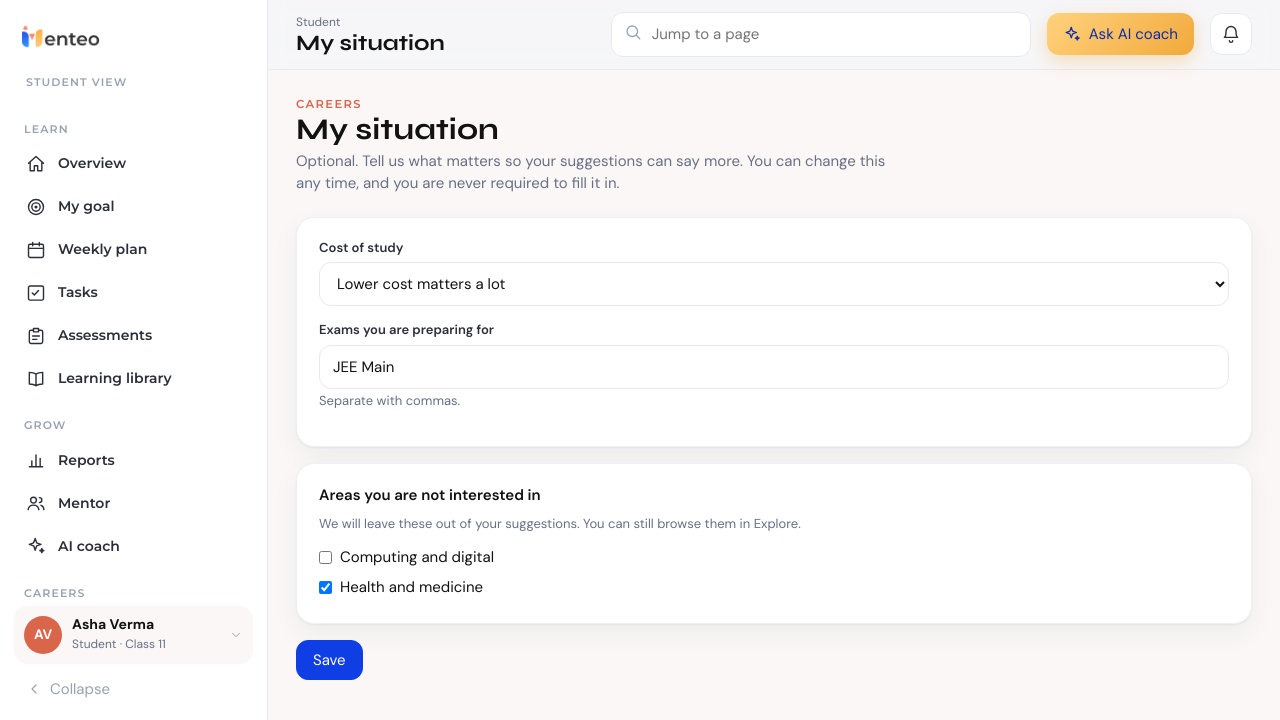
Scenario: my situation › loads what was saved, saves changes, keeps careers they excluded elsewhere, and confirms
The image size is (1280, 720).
Expected: the dropdown labelled "Cost of study" shows "Lower cost matters a lot", [319, 262, 1229, 306]
Expected: the checkbox labelled "Health and medicine" is checked, [319, 581, 332, 594]
Step 1. Replace the text in the field labelled "Exams you are preparing for" with "NEET UG, neet ug, CLAT, " → (774, 367), box [319, 345, 1229, 389]
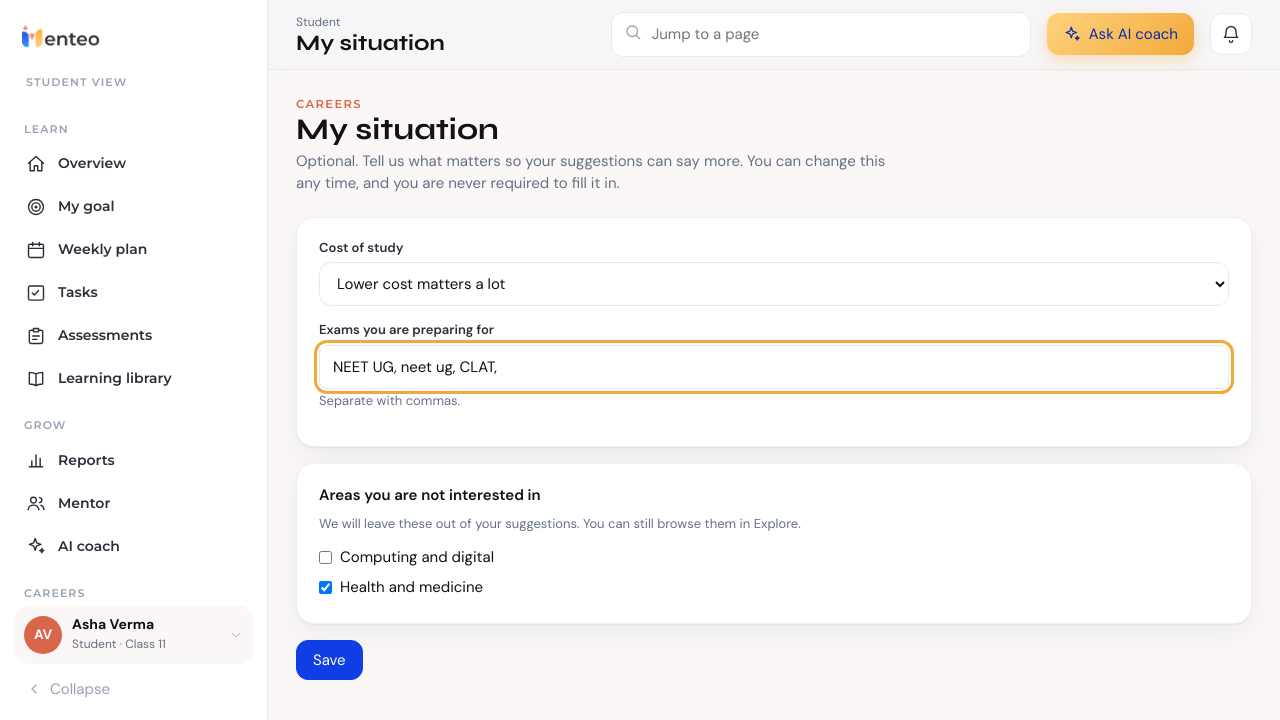
Step 2. Click the checkbox labelled "Computing and digital" → (326, 557), box [319, 550, 332, 564]
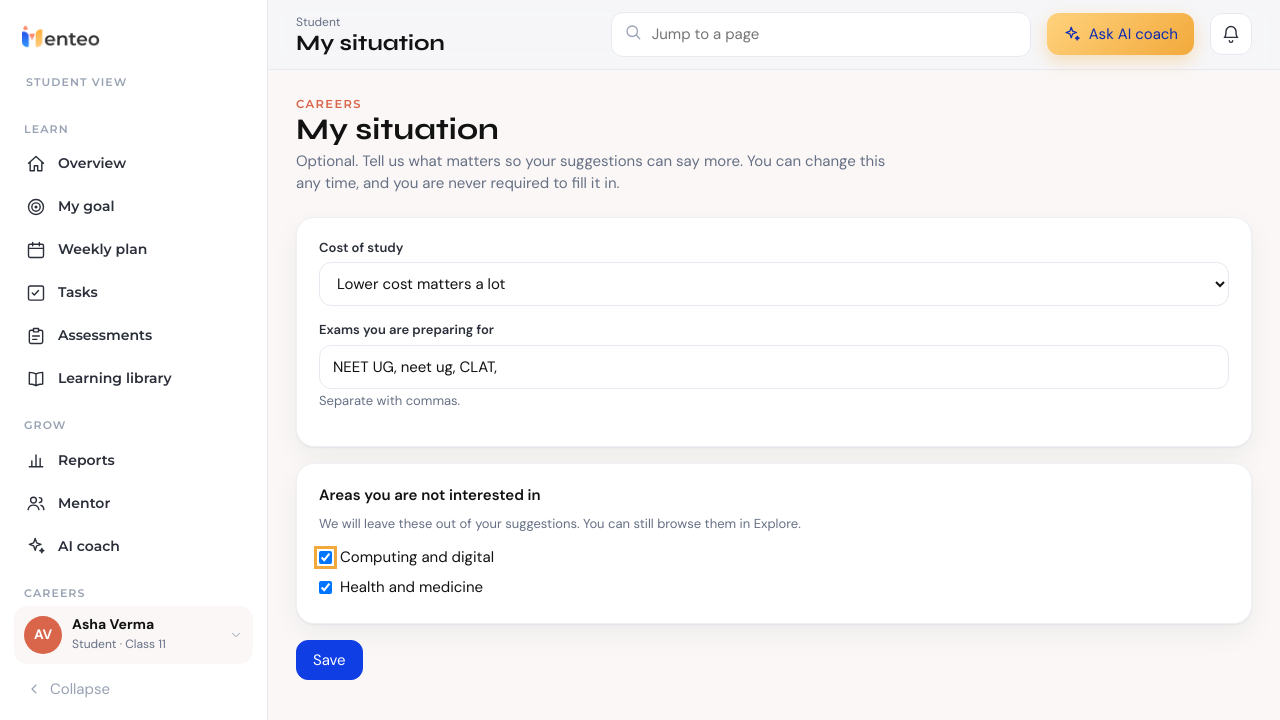
Step 3. Click the button "Save" → (329, 660), box [296, 640, 363, 680]
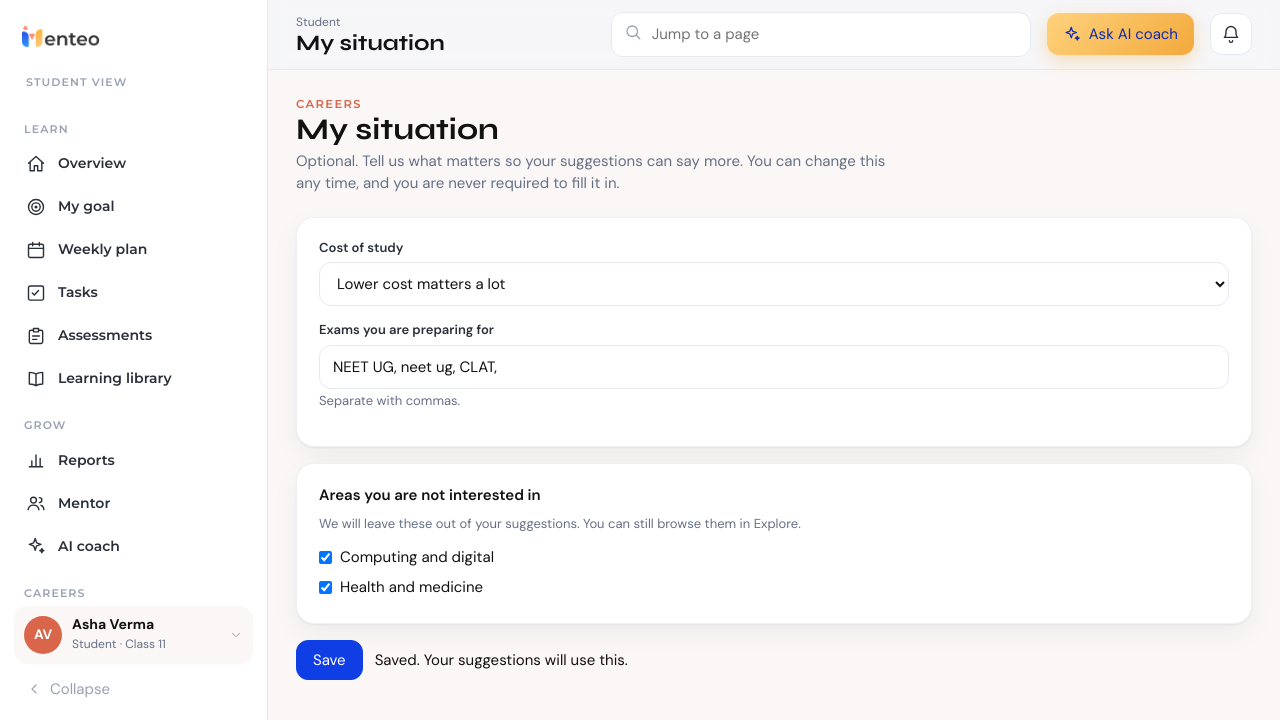
Now the text "Saved. Your suggestions will use this." is shown, box [375, 648, 628, 671]
